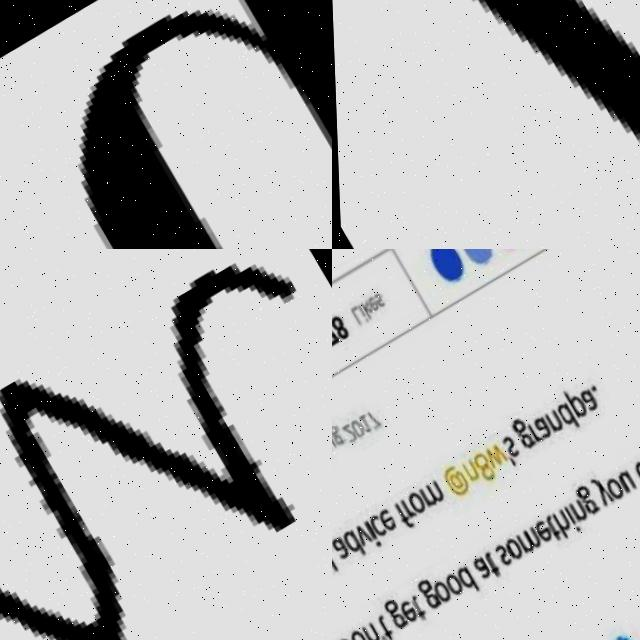0: (345, 419, 363, 441)
1: (353, 414, 369, 436)
2: (336, 423, 355, 446)
7: (360, 409, 380, 433), (332, 321, 337, 347)
8: (468, 453, 493, 486), (332, 313, 347, 342)
D: (7, 0, 332, 249)
F: (390, 0, 640, 249)
M: (0, 249, 332, 640)
